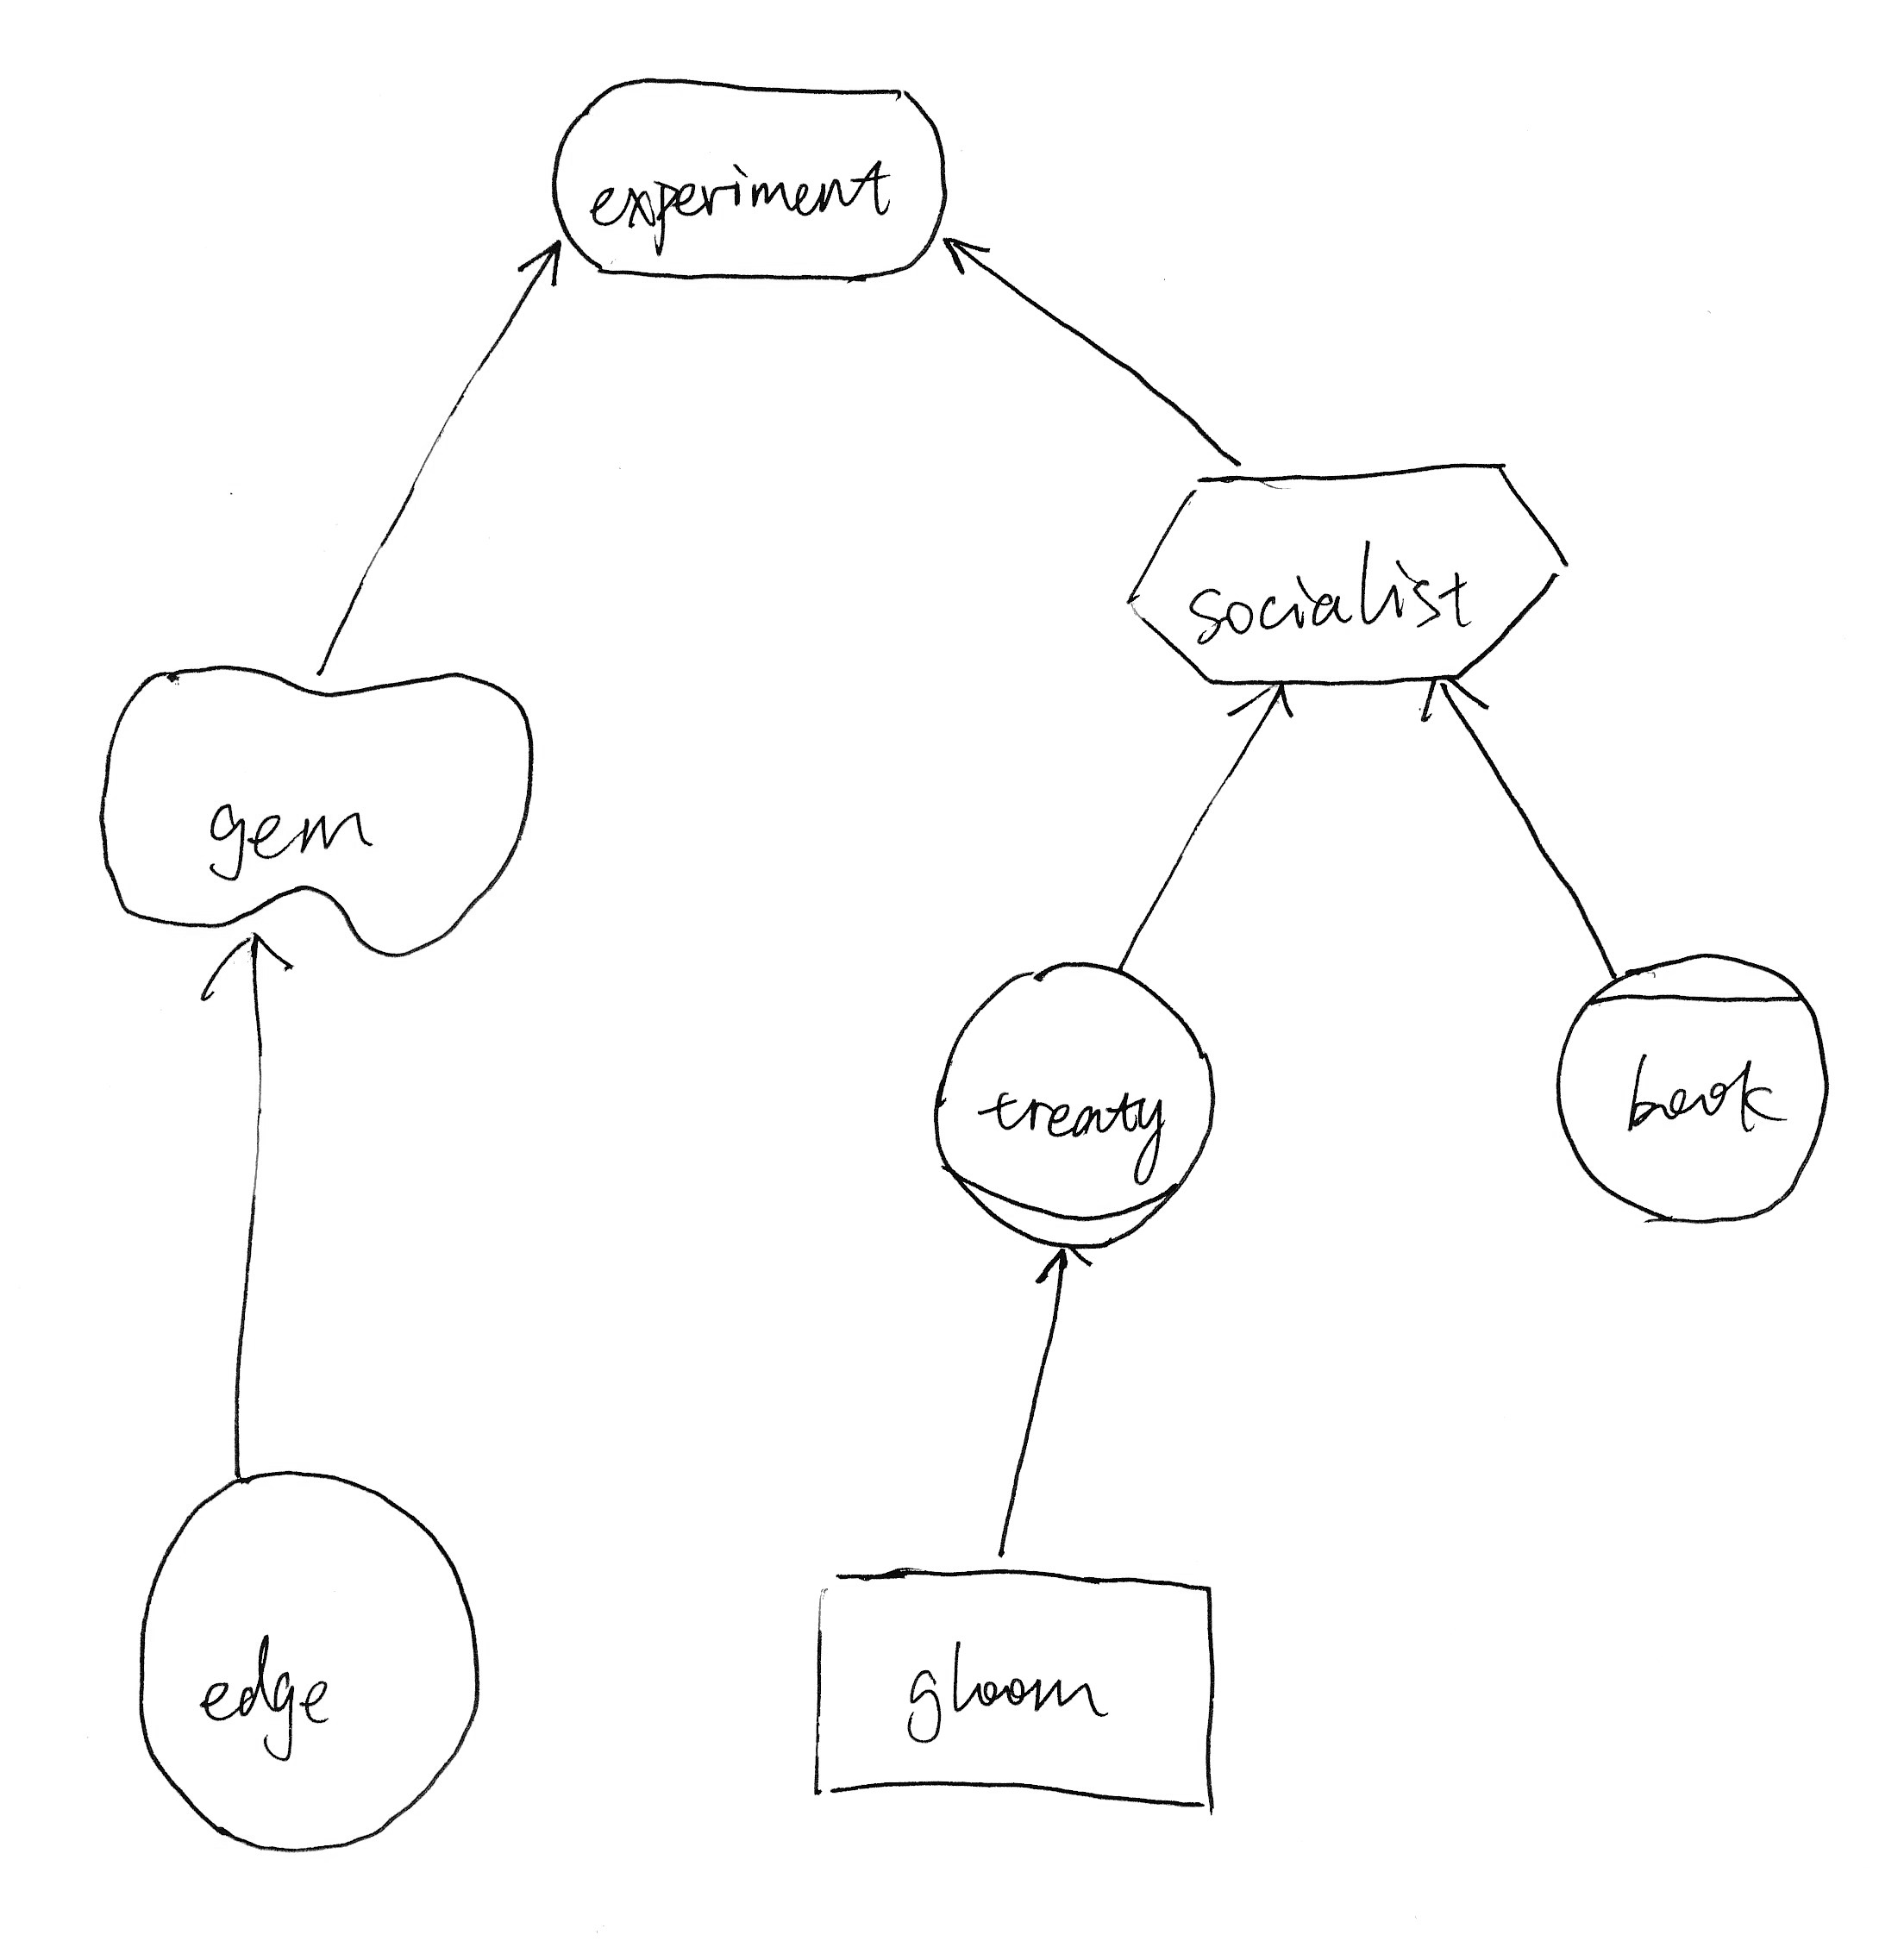actor: (123, 1451, 493, 1865)
agent: (1543, 938, 1841, 1239)
arrow: (178, 922, 308, 1010), (1405, 670, 1510, 754), (1218, 677, 1314, 749), (493, 229, 583, 306), (1013, 1244, 1111, 1304), (931, 222, 1008, 294)
goal: (532, 59, 964, 299)
quality: (80, 639, 546, 969)
resource: (786, 1536, 1251, 1841)
role: (921, 940, 1235, 1256)
task: (1101, 446, 1582, 707)
